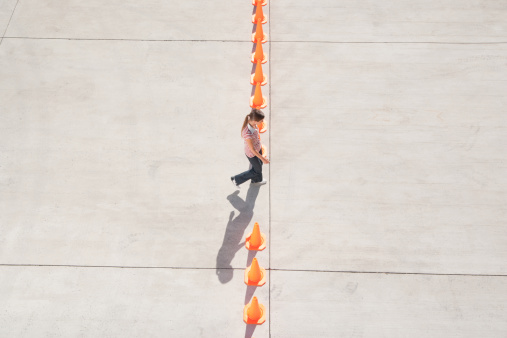em pe: (226, 86, 268, 252)
